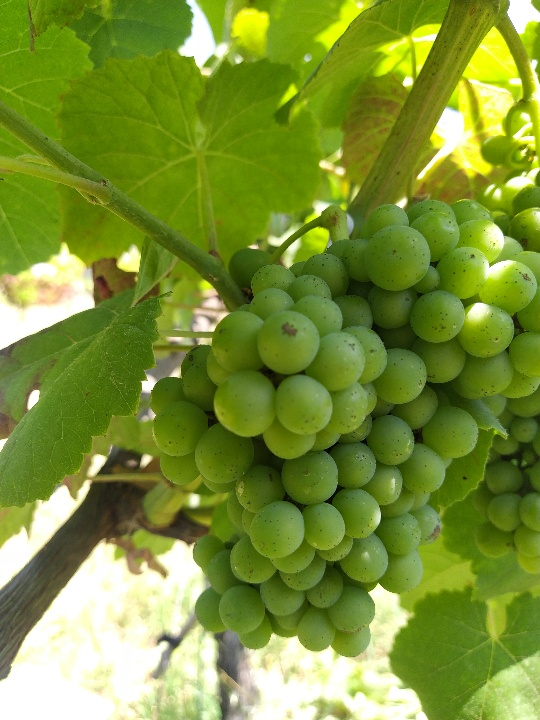grape: (146, 196, 537, 659)
